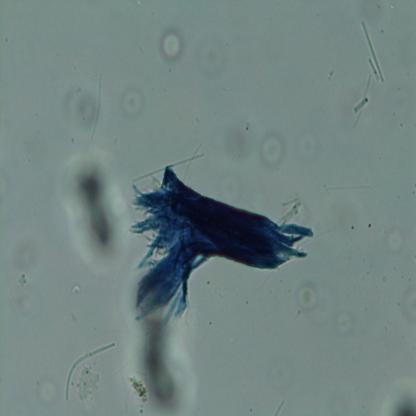Background material: (62, 150, 130, 273), (133, 306, 195, 412), (14, 229, 44, 307), (380, 372, 416, 413), (112, 80, 140, 122), (156, 29, 186, 62), (294, 280, 320, 310), (262, 132, 284, 166), (389, 224, 406, 255), (341, 316, 355, 337)
Cotton: (124, 162, 328, 316)
Glass filter fibre: (64, 338, 118, 404), (358, 20, 390, 86), (86, 73, 106, 147), (351, 96, 372, 116)
